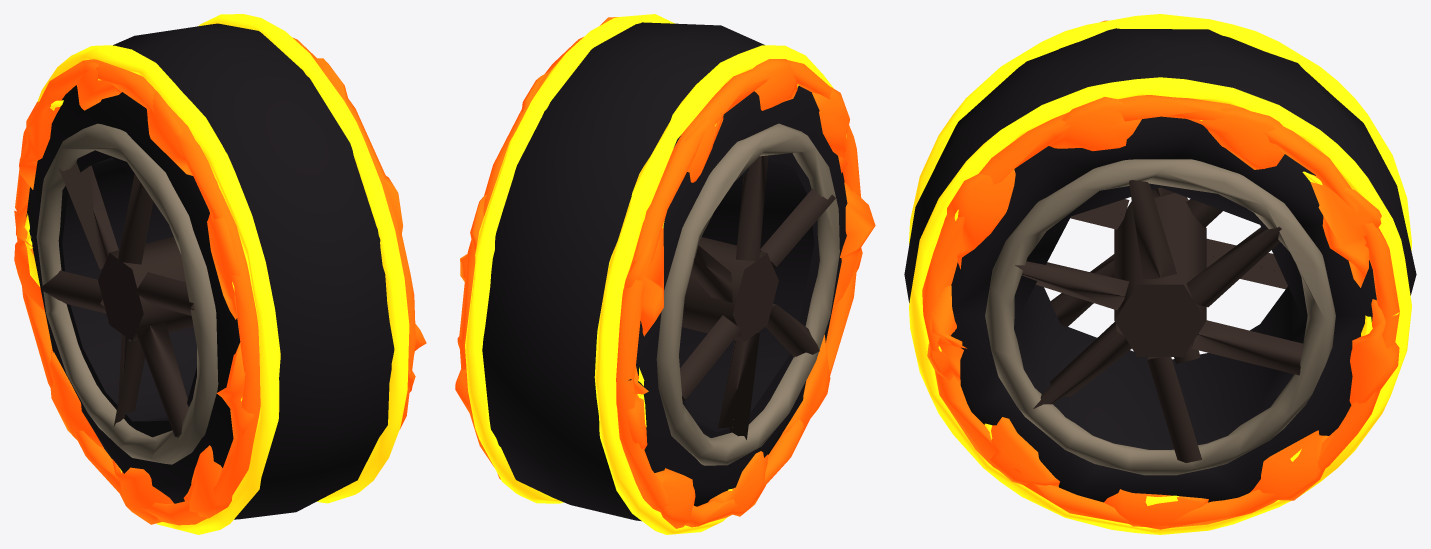
The model's file is A032-FLAME_KART_Wheel_FL_Part_01_0907_515c23fe_LOD.glb.
3 views of the same model, side by side, from view 1: azimuth 30°, elevation 25°; view 2: azimuth 150°, elevation 25°; view 3: azimuth 270°, elevation 25° (orthographic).
Parts seen in each view (by area): view 1: FLAME_KART_Wheel_FL_Part_01; view 2: FLAME_KART_Wheel_FL_Part_01; view 3: FLAME_KART_Wheel_FL_Part_01.
Part boxes in pixels (bbox=[...]): FLAME_KART_Wheel_FL_Part_01: bbox=[14, 14, 426, 534]; FLAME_KART_Wheel_FL_Part_01: bbox=[455, 14, 875, 534]; FLAME_KART_Wheel_FL_Part_01: bbox=[904, 14, 1416, 534].
Bounding box in the file's own units: 0.1846 × 0.3965 × 0.4.
